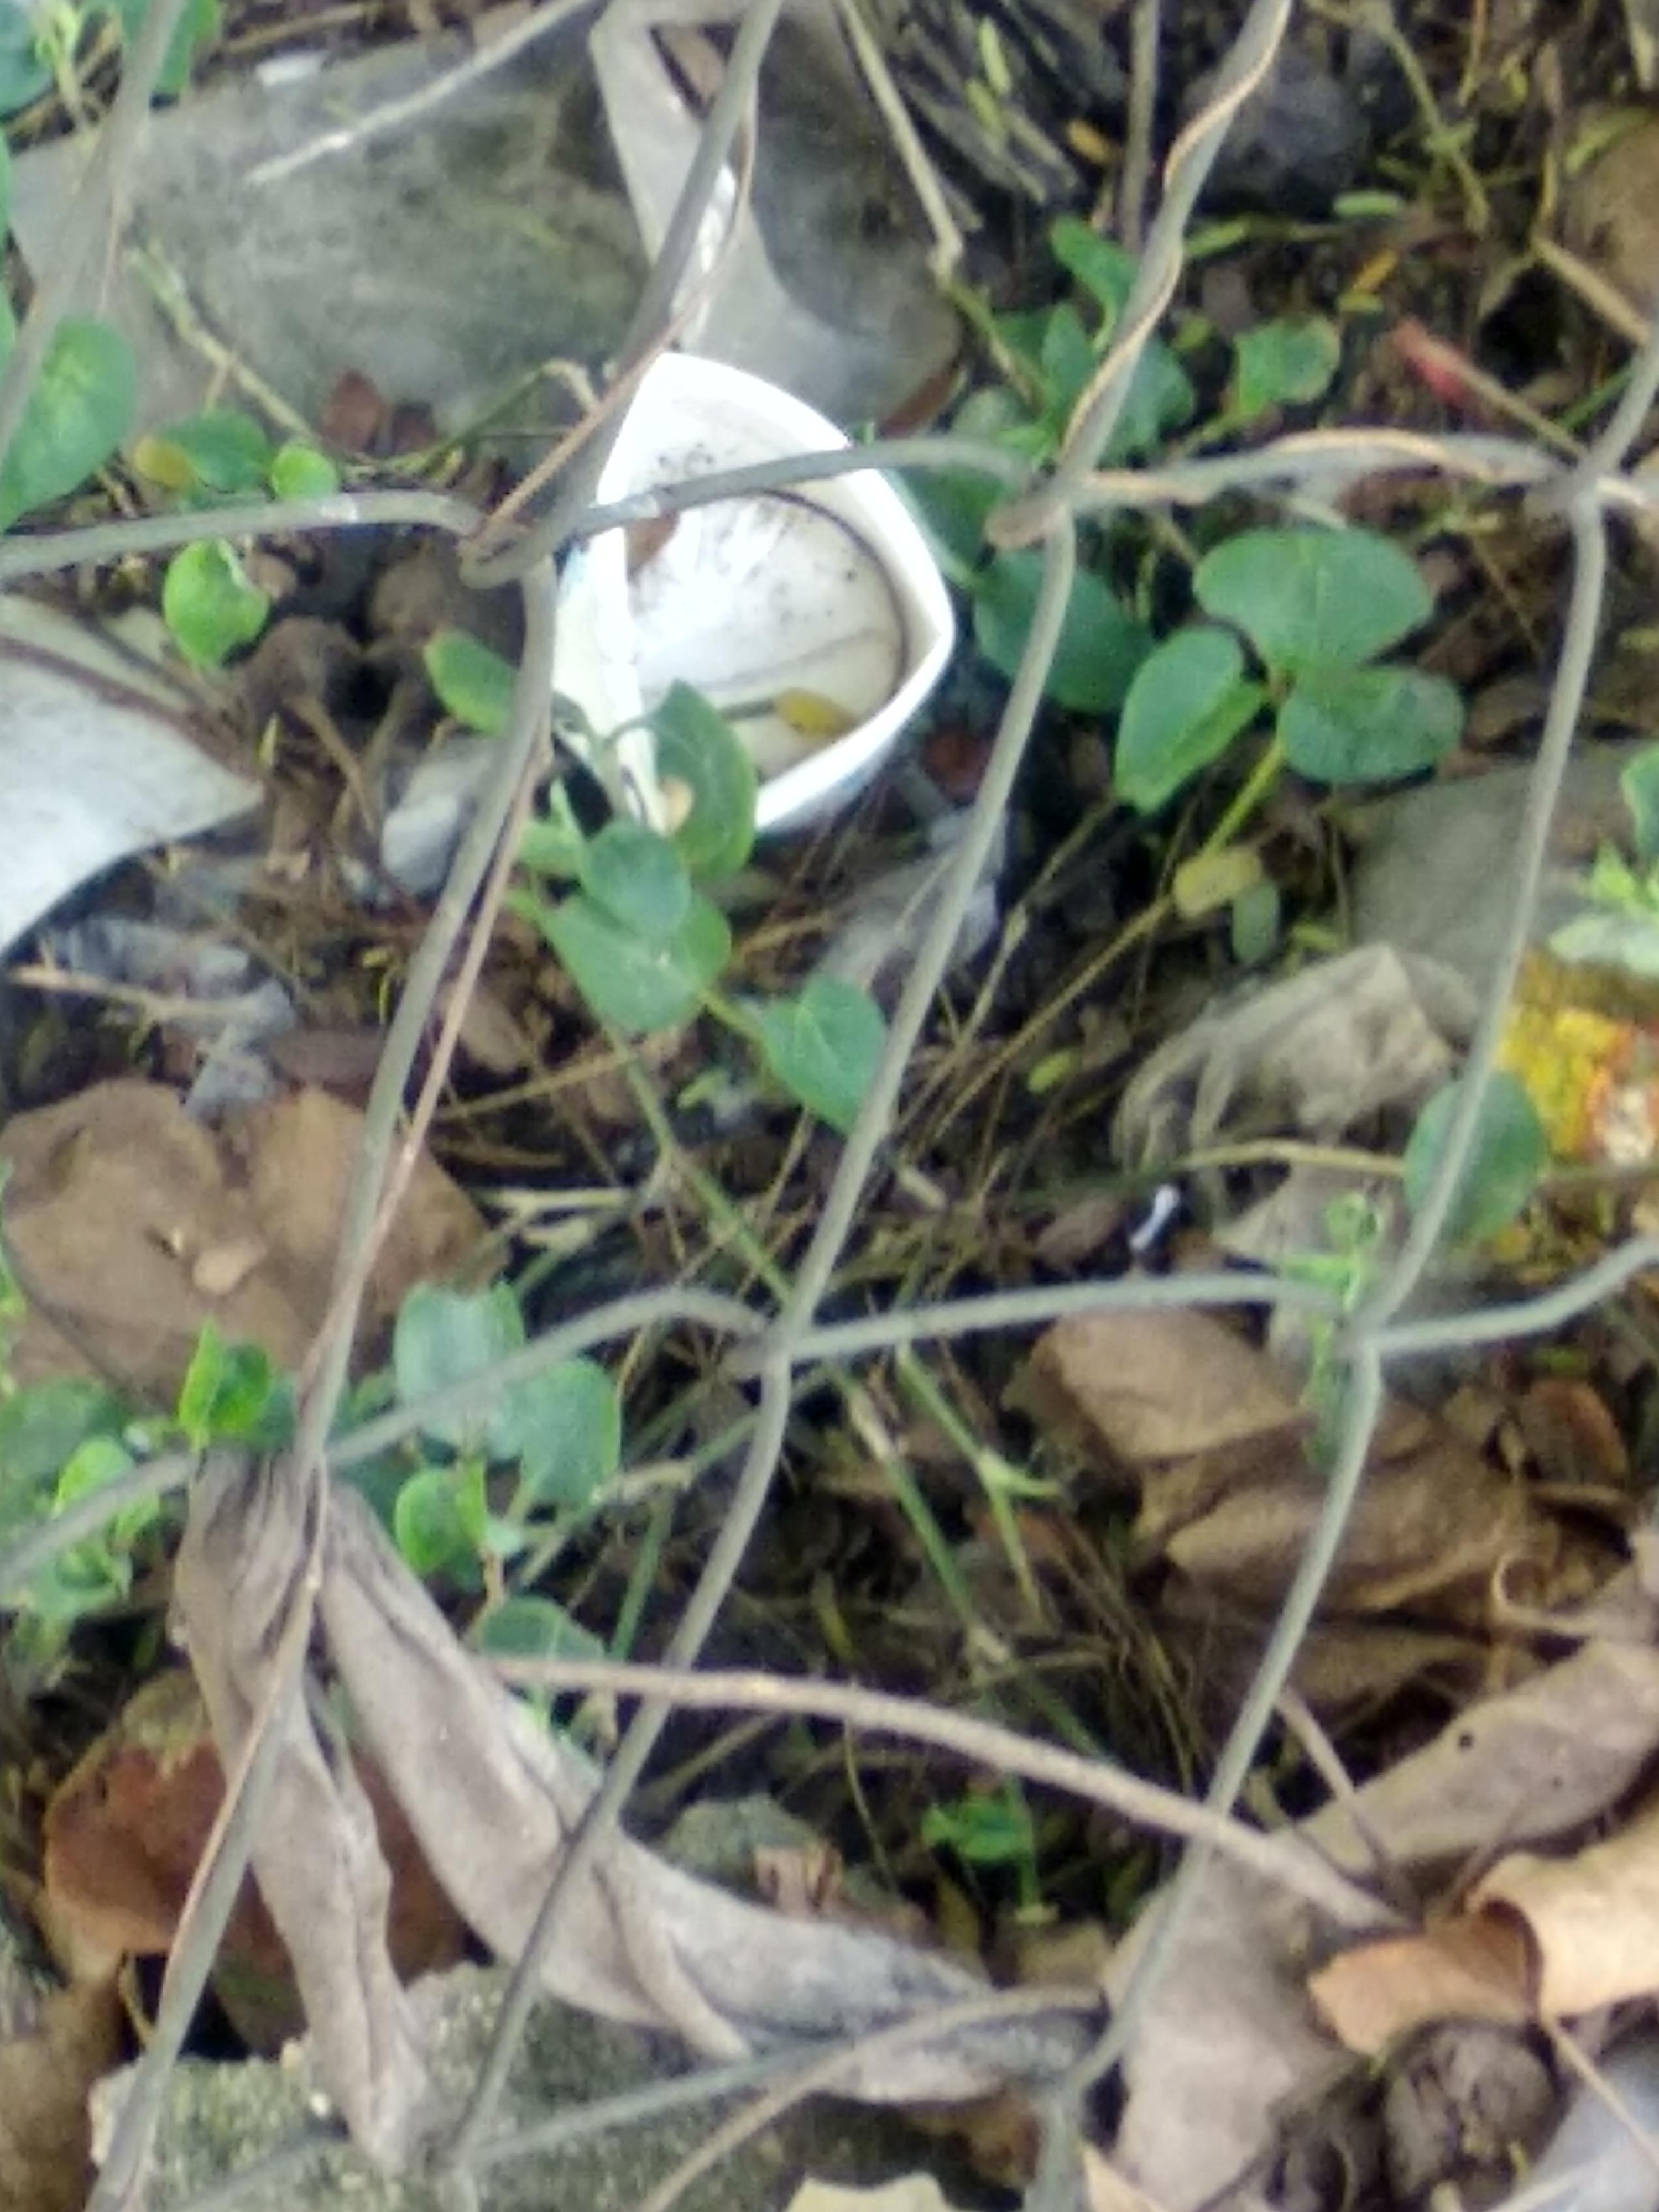organic: (21, 2, 1659, 2212)
